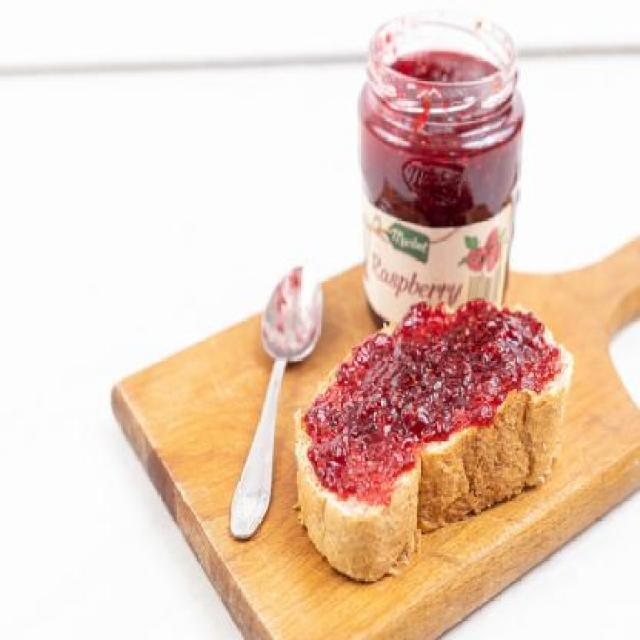Spread: (304, 297, 562, 508)
